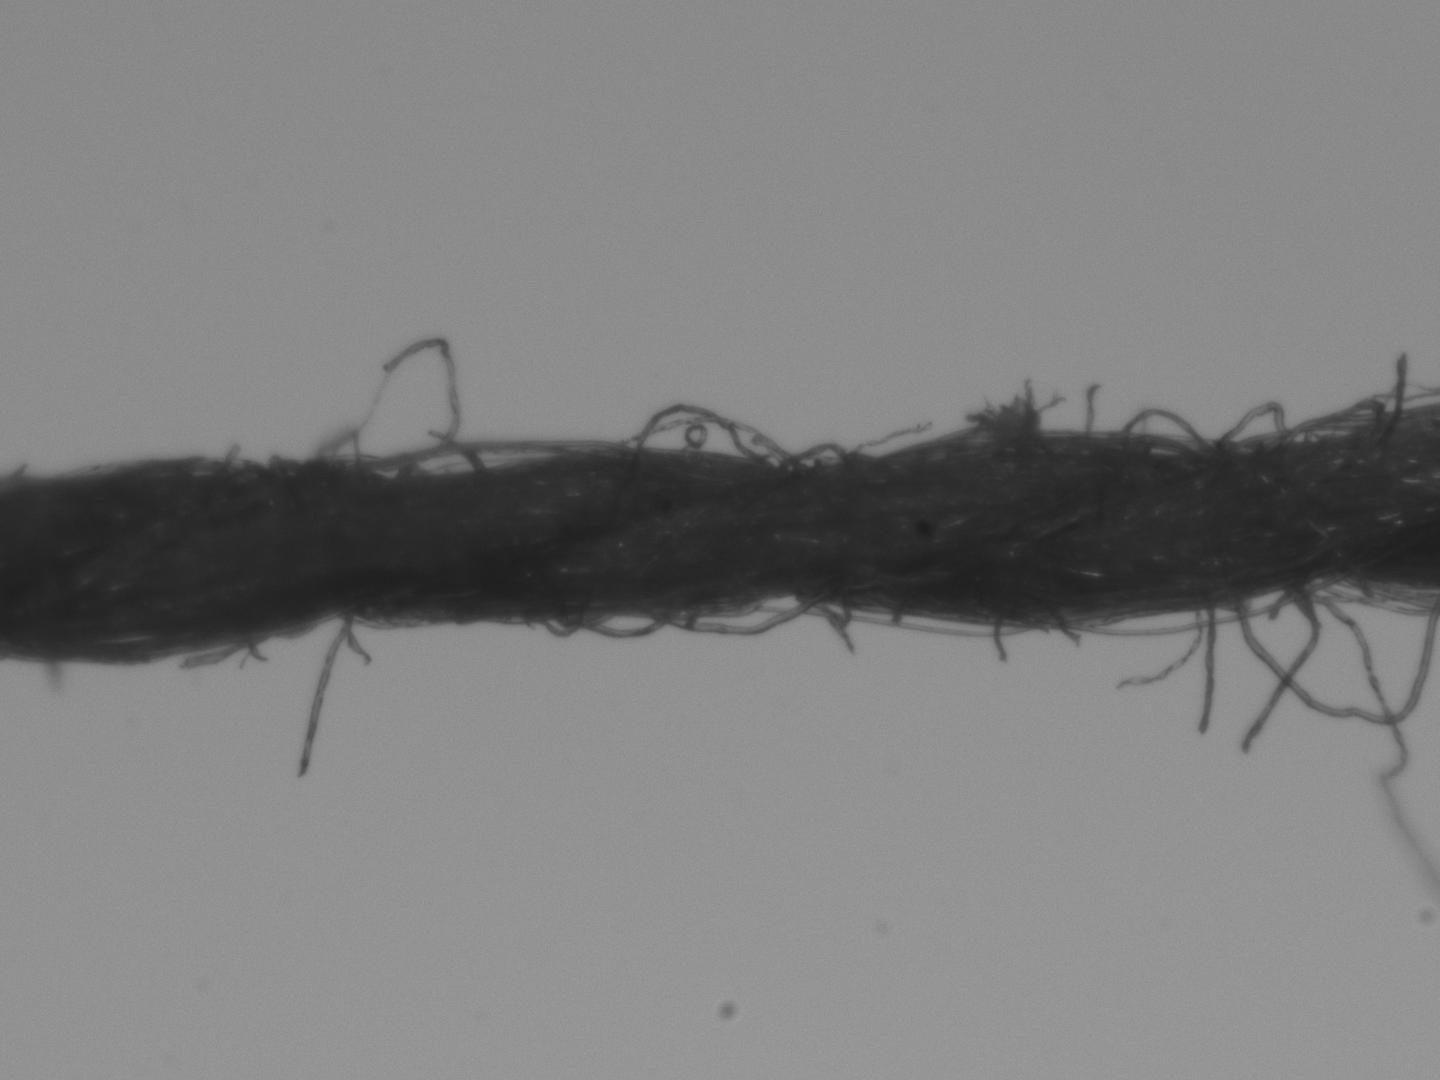loop_fiber: (1228, 588, 1426, 719), (1066, 581, 1345, 635), (664, 589, 818, 636), (361, 440, 560, 474), (634, 404, 753, 456), (558, 605, 658, 641), (1296, 402, 1387, 439), (1211, 404, 1288, 446), (1119, 411, 1205, 448), (780, 445, 853, 469)
protruding_fiber: (1239, 591, 1319, 752), (295, 614, 361, 784), (1197, 605, 1212, 733), (1388, 346, 1409, 428), (988, 622, 1007, 664), (1083, 382, 1101, 424)
